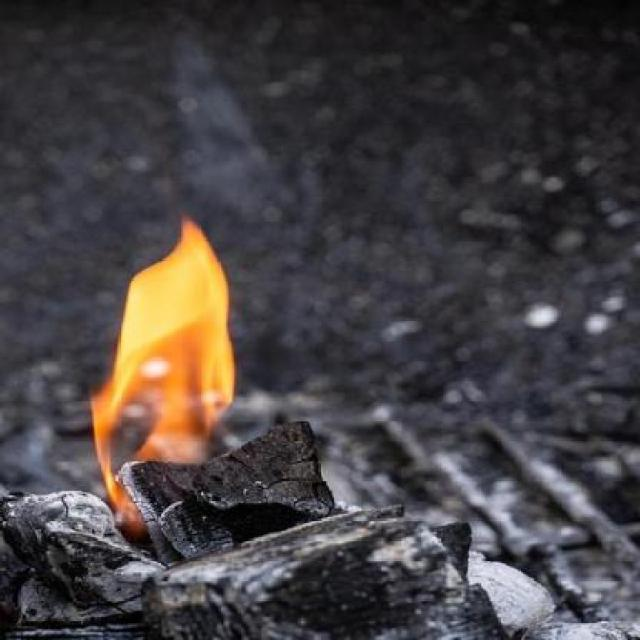Fire: (91, 206, 241, 546)
